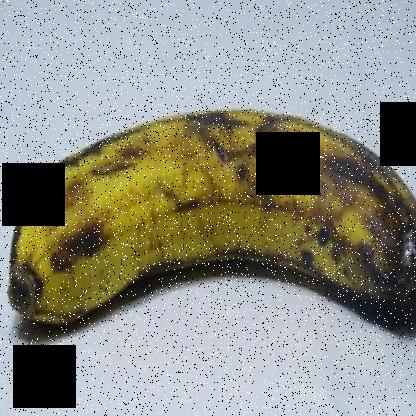overripe: (0, 100, 415, 347)
